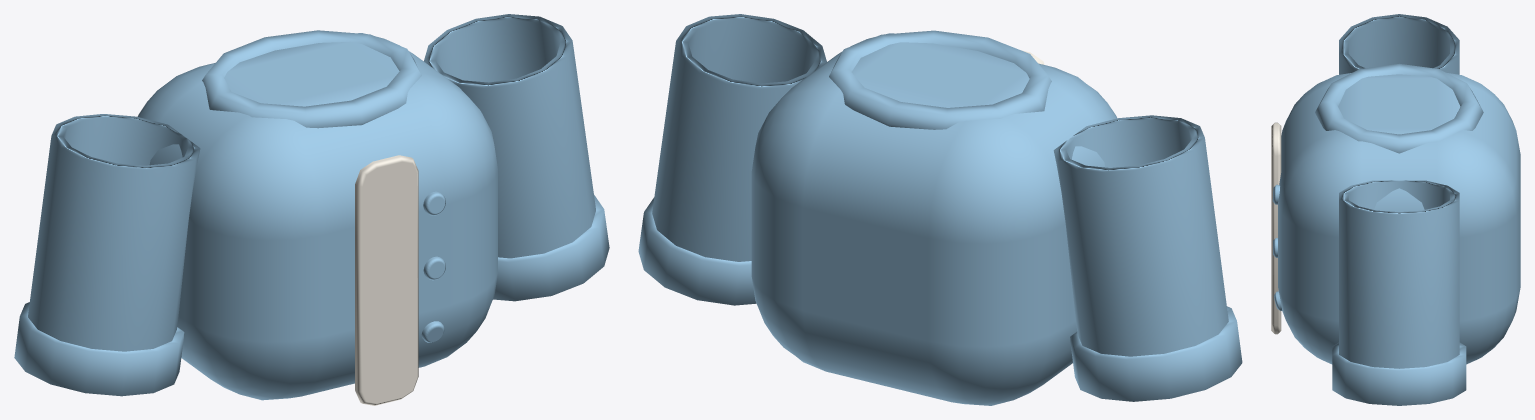
Rendered from cardigan_shirt_combo.glb.
3 renders of one model, left to right at view 1: azimuth 30°, elevation 25°; view 2: azimuth 150°, elevation 25°; view 3: azimuth 270°, elevation 25°, orthographic. The views are drawn at different scales.
Parts seen in each view (by area): view 1: cardigan_shirt_combo_Body, cardigan_shirt_combo_ArmL, cardigan_shirt_combo_ArmR; view 2: cardigan_shirt_combo_Body, cardigan_shirt_combo_ArmL, cardigan_shirt_combo_ArmR; view 3: cardigan_shirt_combo_Body, cardigan_shirt_combo_ArmR, cardigan_shirt_combo_ArmL.
Part boxes in pixels (bbox=[...]): cardigan_shirt_combo_Body: bbox=[137, 30, 497, 405]; cardigan_shirt_combo_ArmL: bbox=[14, 114, 200, 396]; cardigan_shirt_combo_ArmR: bbox=[424, 14, 609, 301]; cardigan_shirt_combo_Body: bbox=[751, 30, 1116, 405]; cardigan_shirt_combo_ArmL: bbox=[1053, 115, 1242, 401]; cardigan_shirt_combo_ArmR: bbox=[638, 14, 826, 305]; cardigan_shirt_combo_Body: bbox=[1271, 63, 1520, 364]; cardigan_shirt_combo_ArmR: bbox=[1332, 180, 1466, 405]; cardigan_shirt_combo_ArmL: bbox=[1339, 14, 1459, 74].
Bounding box in the file's own units: 0.6504 × 0.3119 × 0.298.
